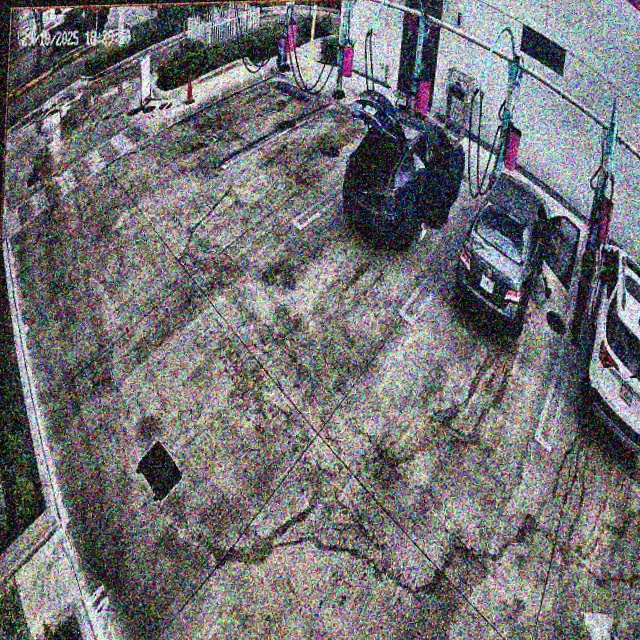Car: (343, 90, 466, 250), (456, 168, 575, 326)
